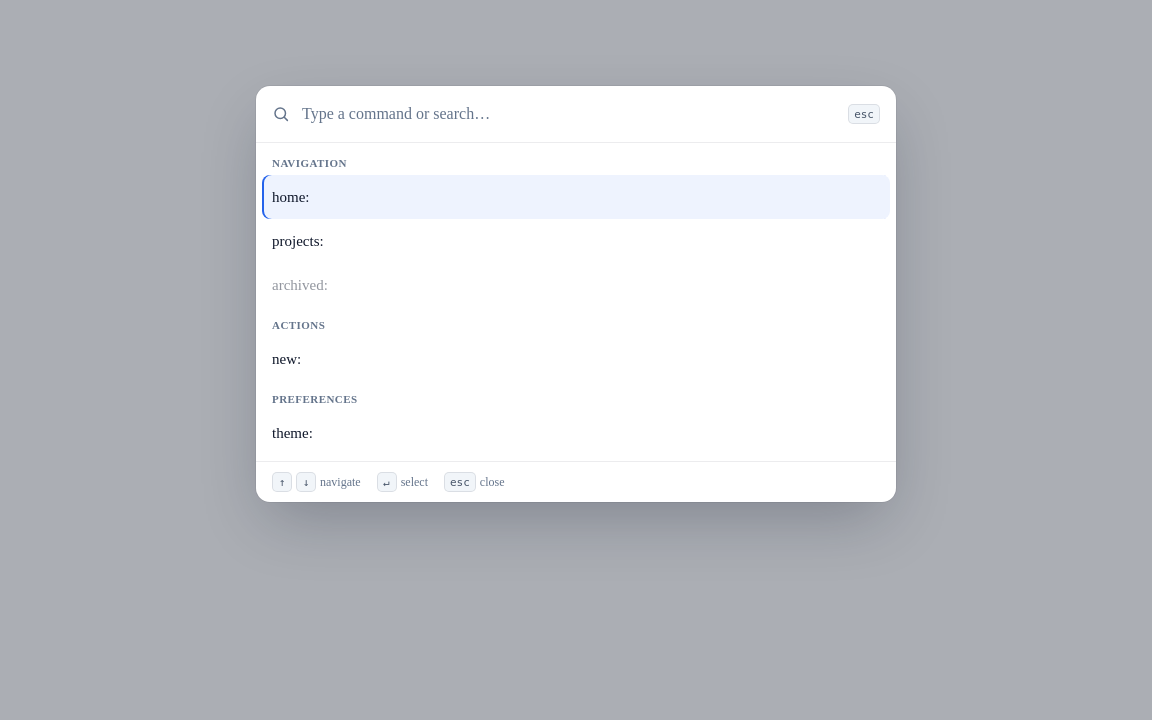
slots › renders a custom item slot with match segments
Type "dash" into the dropdown with placeholder "Type a command or search…". click: (569, 114)
box: [300,86,838,142]
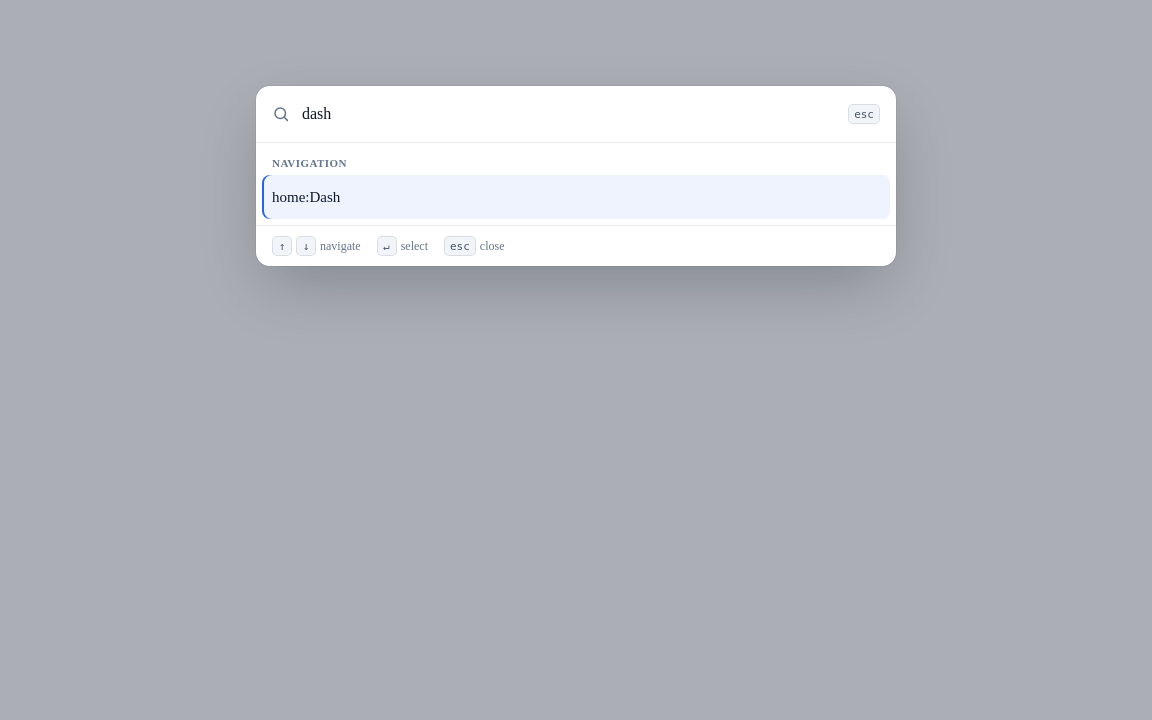
Expected: the text with class "is-active" reads "home:Dash", [272,189,340,205]
